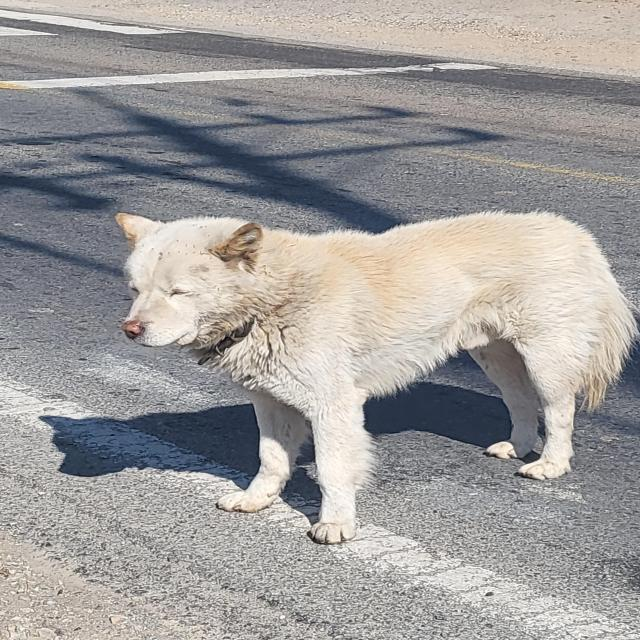dog: (101, 125, 640, 575)
